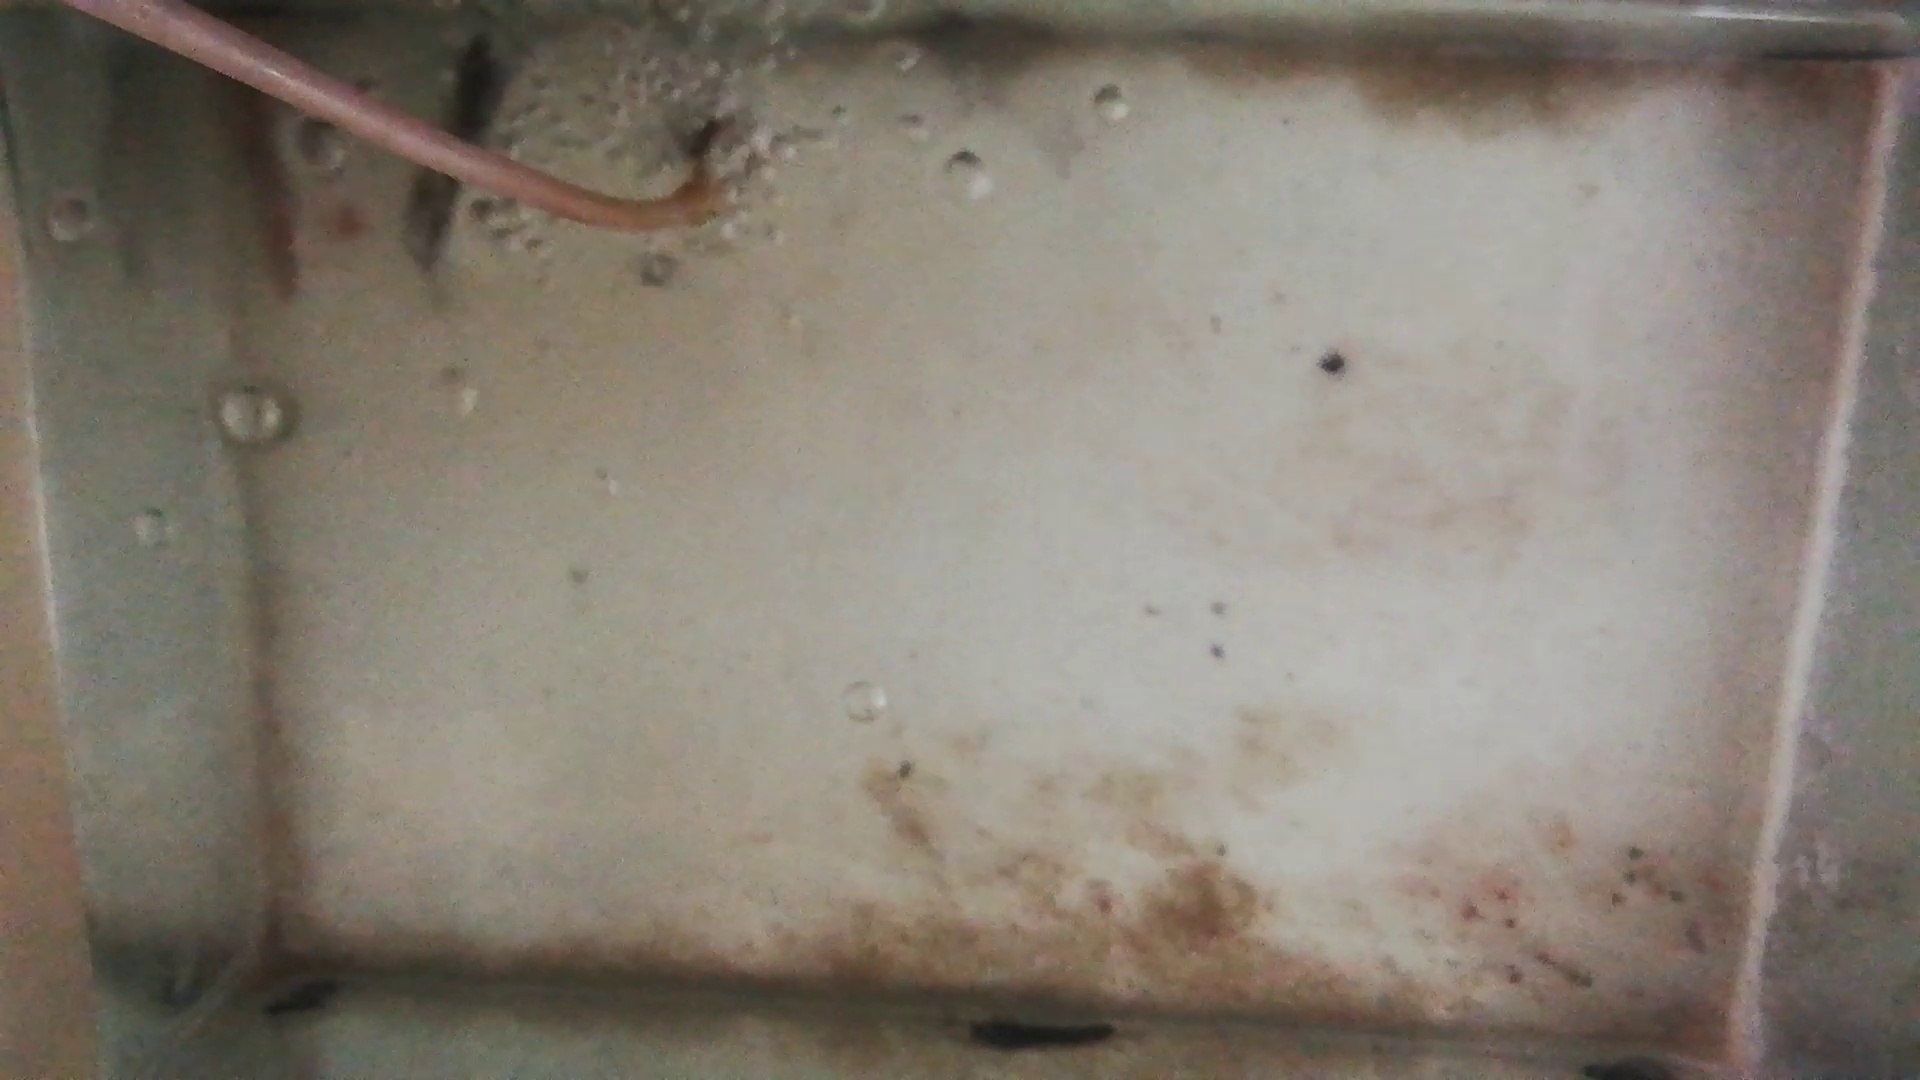fish: (404, 26, 510, 276), (214, 58, 302, 295)
